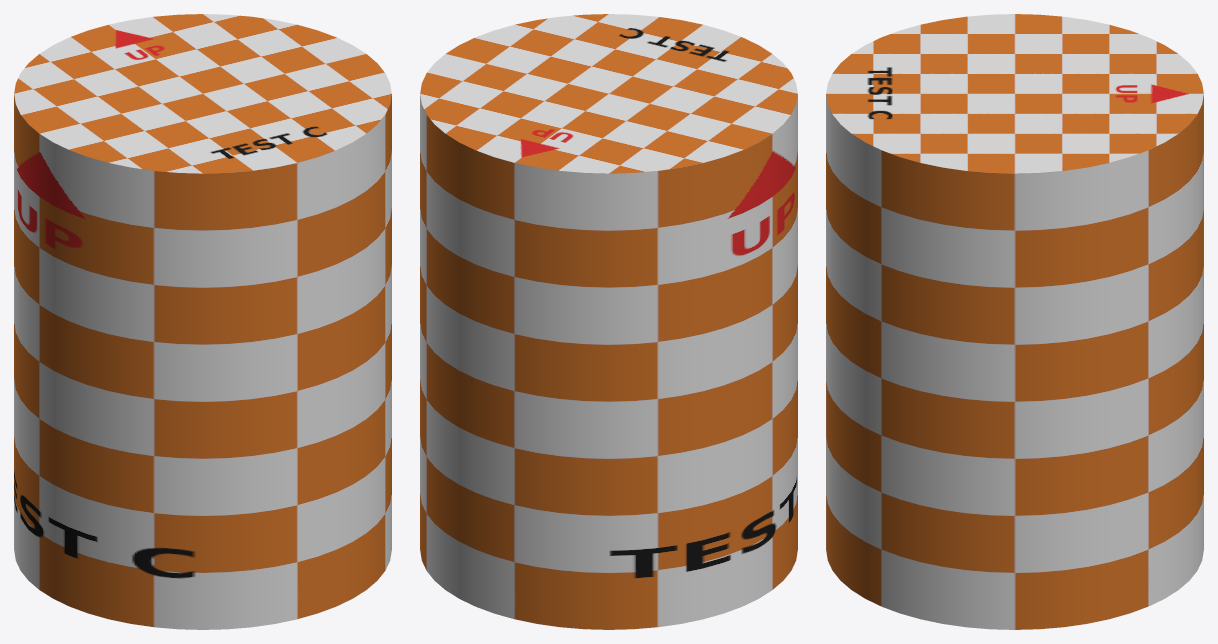
3 views of the same model, side by side, from view 1: azimuth 30°, elevation 25°; view 2: azimuth 150°, elevation 25°; view 3: azimuth 270°, elevation 25° (orthographic).
Parts seen in each view (by area): view 1: part0; view 2: part0; view 3: part0.
Part boxes in pixels (<box>): part0: <box>14,14,391,629</box>; part0: <box>420,14,797,629</box>; part0: <box>826,14,1203,629</box>.
Size of the model in its own units: 0.9 by 1.2 by 0.9.
1 material, 1 textured.
